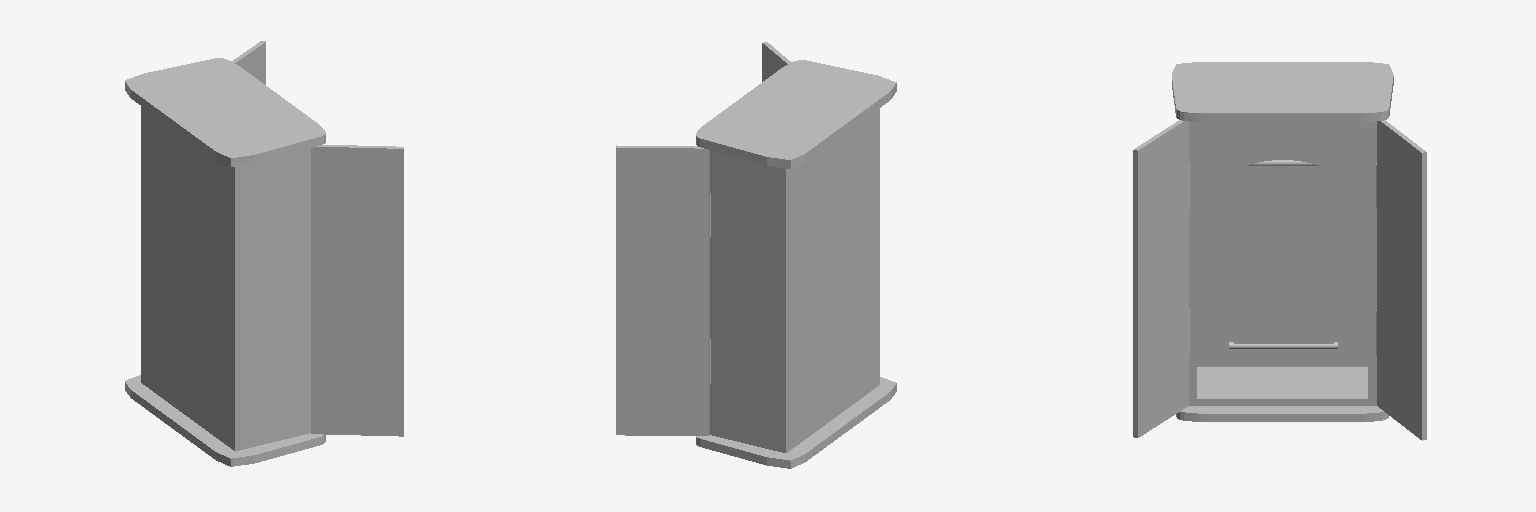
The model's file is truc_inge.obj.
3 views of the same model, side by side, from view 1: azimuth 30°, elevation 25°; view 2: azimuth 150°, elevation 25°; view 3: azimuth 270°, elevation 25° (orthographic).
Parts seen in each view (by area): view 1: Cylinder.004; view 2: Cylinder.004; view 3: Cylinder.004.
Part boxes in pixels (left/top/right/bottom): Cylinder.004: left=125, top=41, right=403, bottom=466; Cylinder.004: left=616, top=42, right=896, bottom=468; Cylinder.004: left=1133, top=62, right=1426, bottom=440.
Size of the model in its own units: 1.66 by 3.01 by 2.59.